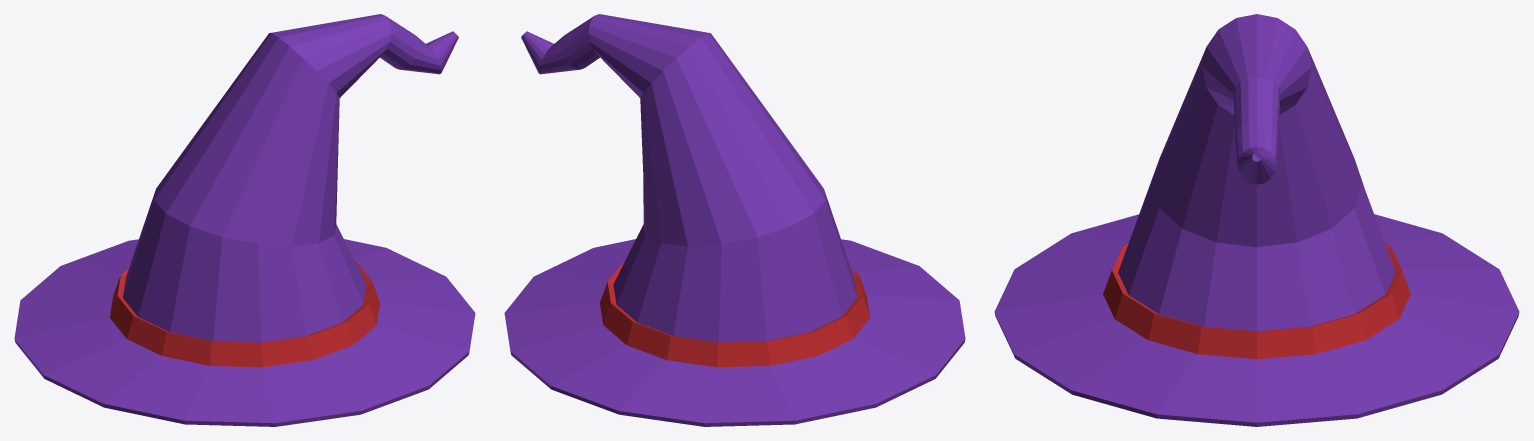
File: witch_hat.fbx
The picture shows the model from 3 angles, left to right: view 1: azimuth 30°, elevation 25°; view 2: azimuth 150°, elevation 25°; view 3: azimuth 270°, elevation 25°; orthographic projection. The views are drawn at different scales.
Parts seen in each view (by area): view 1: hat; view 2: hat; view 3: hat.
Part boxes in pixels (x1,y1,x2,y2): hat: (14, 14, 475, 426); hat: (504, 14, 965, 426); hat: (994, 14, 1519, 426).
Size of the model in its own units: 207 by 135 by 201.
